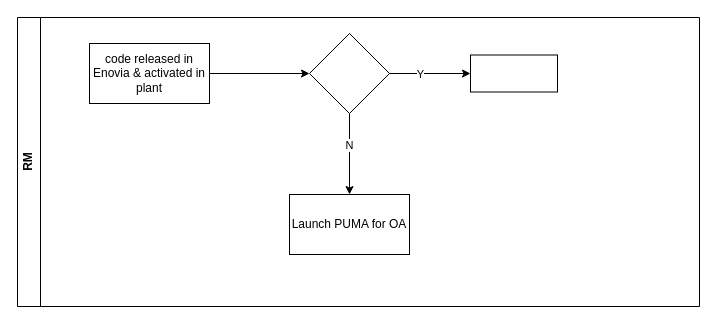
This 717x324 diagram has some shape labels left out. The shapes that lost their labels are listed below. From the top down, each one's centre as x and y in pixels, then its label:
(349,73): perfume?
(514,73): RTP Process
